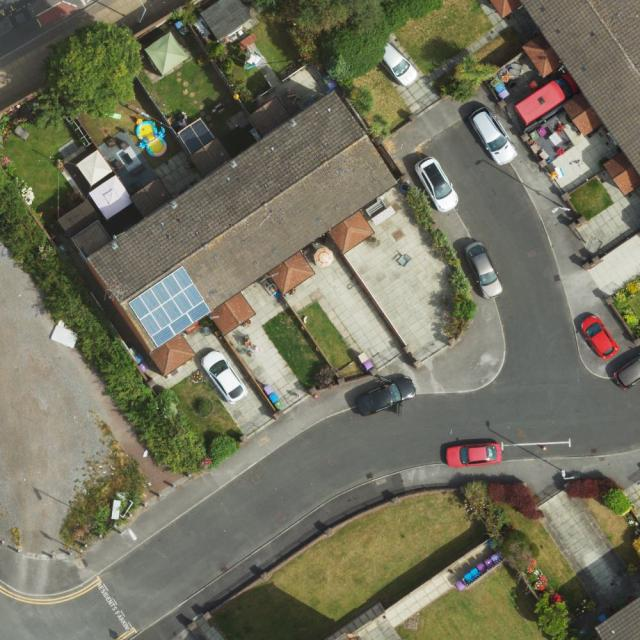roof: (88, 91, 397, 376), (492, 1, 640, 195)
solar: (128, 266, 211, 348)
